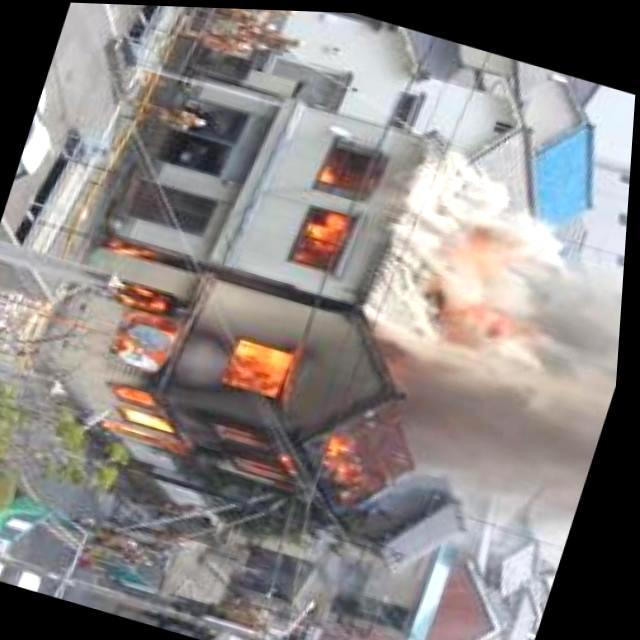fire: (66, 252, 436, 524), (296, 137, 388, 266)
